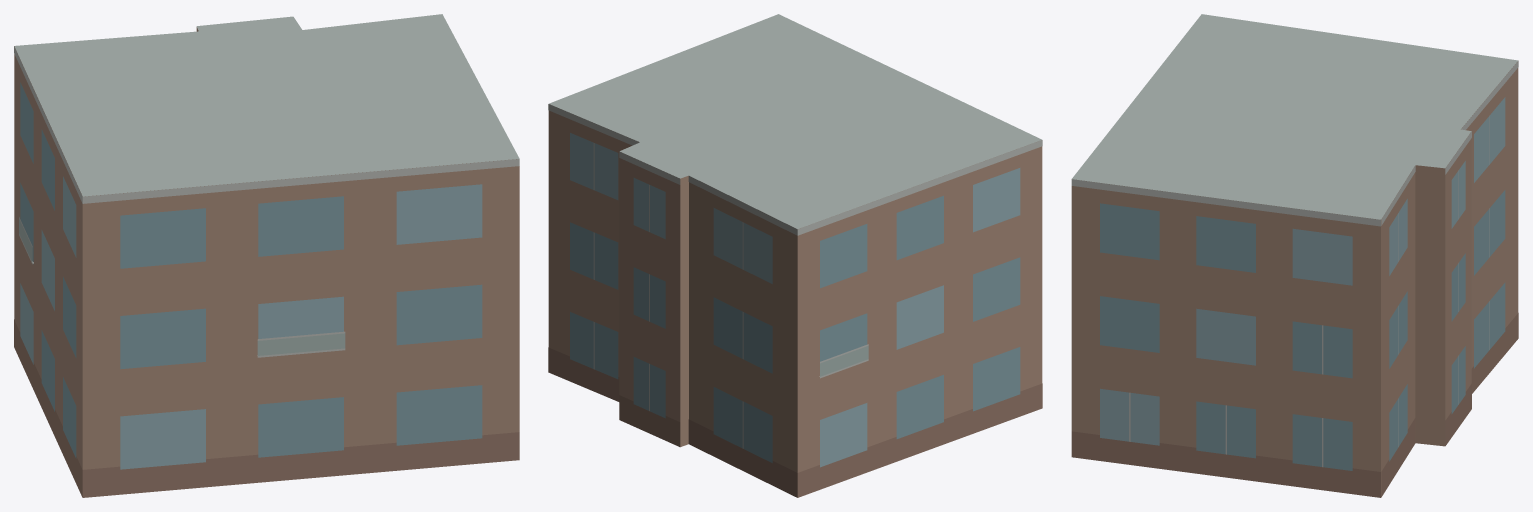
The model's file is survey-upis-32767121.glb.
3 views of the same model, side by side, from view 1: azimuth 30°, elevation 25°; view 2: azimuth 150°, elevation 25°; view 3: azimuth 270°, elevation 25° (orthographic). The views are drawn at different scales.
Parts seen in each view (by area): view 1: survey-upis-32767121.tmp; view 2: survey-upis-32767121.tmp; view 3: survey-upis-32767121.tmp.
Part boxes in pixels (x1,y1,x2,y2): survey-upis-32767121.tmp: (14, 14, 519, 497); survey-upis-32767121.tmp: (548, 14, 1042, 497); survey-upis-32767121.tmp: (1071, 14, 1518, 497).
Size of the model in its own units: 16.04 by 10.1 by 14.72.
